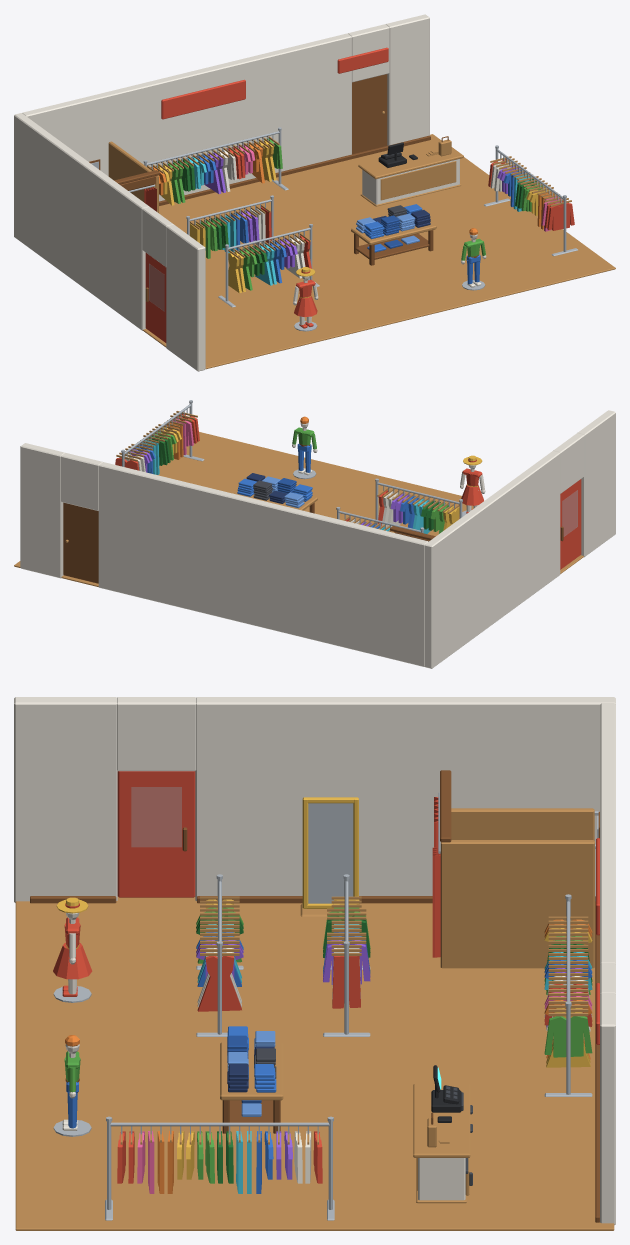
The model's file is clothing-boutique-interior.glb.
3 views of the same model, one above another, from view 1: azimuth 30°, elevation 25°; view 2: azimuth 150°, elevation 25°; view 3: azimuth 270°, elevation 25° (orthographic). The views are drawn at different scales.
Parts seen in each view (by area): view 1: Floor, Wall_Back_0, Wall_Side_L_1, Wall_Back_1, Wall_Side_L_0, ClothesRail_Back, ClothesRail_Centre_A, ClothesRail_Side, ClothesRail_Centre_B, StaffDoor_Panel, Sign_Inside, Counter_Panel_Front (+11 smaller); view 2: Wall_Back_0, Wall_Side_L_1, Floor, Wall_Back_1, Wall_Side_L_0, ClothesRail_Side, ClothesRail_Centre_A, StaffDoor_Panel, Wall_Back_DoorHead, Door_Panel, Wall_Side_L_DoorHead, Door_Window; view 3: Floor, Wall_Side_L_1, Wall_Side_L_0, FittingRoom_Wall_Side, Door_Panel, ClothesRail_Side, ClothesRail_Back, Wall_Side_L_DoorHead, ClothesRail_Centre_A, ClothesRail_Centre_B, FittingRoom_Wall_Divider, Mirror_Glass (+13 smaller).
Boxes of the visible parts, x1,y1,x2,y2 form: Floor: (143,134,615,369); Wall_Back_0: (22,33,351,201); Wall_Side_L_1: (14,113,149,330); Wall_Back_1: (385,14,429,145); Wall_Side_L_0: (166,224,205,371); ClothesRail_Back: (147,127,288,205); ClothesRail_Centre_A: (228,224,319,293); ClothesRail_Side: (484,145,574,231); ClothesRail_Centre_B: (190,195,273,259); StaffDoor_Panel: (352,74,387,154); Sign_Inside: (161,79,245,119); Counter_Panel_Front: (380,161,456,200); Wall_Back_0: (98,462,428,666); Wall_Side_L_1: (424,451,560,668); Floor: (14,432,583,586); Wall_Back_1: (20,443,64,578); Wall_Side_L_0: (577,410,615,557); ClothesRail_Side: (115,409,199,474); ClothesRail_Centre_A: (375,478,459,533); StaffDoor_Panel: (63,502,98,583); Wall_Back_DoorHead: (61,452,102,510); Door_Panel: (560,479,581,569); Wall_Side_L_DoorHead: (553,433,584,493); Door_Window: (562,490,577,536); Floor: (15,896,614,1230); Wall_Side_L_1: (195,697,615,900); Wall_Side_L_0: (14,697,117,902); FittingRoom_Wall_Side: (440,840,594,968); Door_Panel: (117,771,195,897); ClothesRail_Side: (117,1116,334,1220); ClothesRail_Back: (544,916,592,1096); Wall_Side_L_DoorHead: (117,697,196,771); ClothesRail_Centre_A: (196,896,243,1036); ClothesRail_Centre_B: (323,896,370,1036); FittingRoom_Wall_Divider: (451,808,594,840); Mirror_Glass: (308,803,353,903).
Size of the model in its own units: 49.9 by 14 by 38.
Materials: 11 (1 with a texture image).
